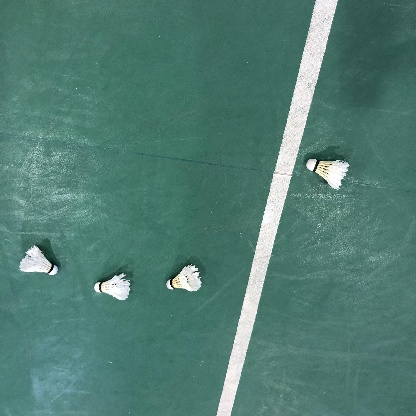ball_single: (306, 159, 350, 190), (19, 245, 58, 275), (166, 264, 202, 292), (94, 273, 131, 300)
